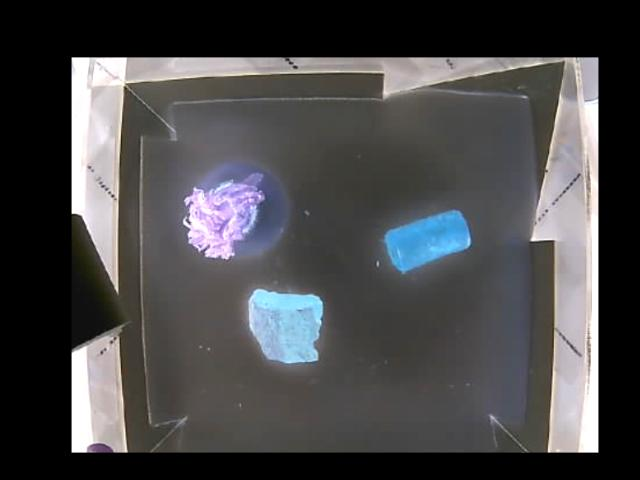Brisk: (246, 285, 320, 364)
Carrot: (387, 209, 471, 270)
Mooli: (181, 159, 290, 261)
